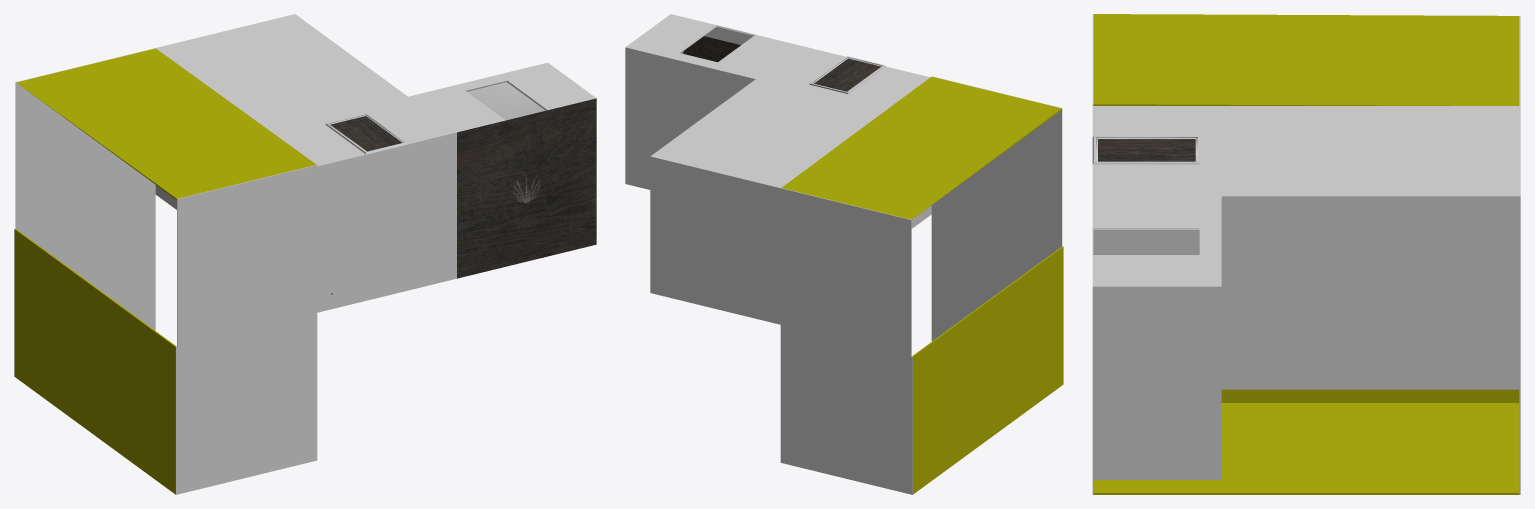
The model's file is Shop_part.fbx.
3 views of the same model, side by side, from view 1: azimuth 30°, elevation 25°; view 2: azimuth 150°, elevation 25°; view 3: azimuth 270°, elevation 25° (orthographic). The views are drawn at different scales.
Parts seen in each view (by area): view 1: Corner, Wall, Tile, SecretTile, DoorR, DoorL; view 2: Corner, Wall, Tile, SecretTile, DoorR, DoorL; view 3: Tile, Wall, SecretTile, Corner, DoorL, DoorR.
Boxes of the visible parts, x1=… form: Corner: x1=14, y1=194, x2=317, y2=494; Wall: x1=15, y1=48, x2=317, y2=346; Tile: x1=155, y1=14, x2=456, y2=312; SecretTile: x1=408, y1=62, x2=596, y2=278; DoorR: x1=325, y1=118, x2=386, y2=154; DoorL: x1=347, y1=113, x2=407, y2=149; Corner: x1=780, y1=214, x2=1063, y2=494; Wall: x1=780, y1=76, x2=1062, y2=356; Tile: x1=650, y1=46, x2=931, y2=324; SecretTile: x1=625, y1=14, x2=800, y2=189; DoorR: x1=828, y1=60, x2=885, y2=93; DoorL: x1=809, y1=56, x2=865, y2=89; Tile: x1=1092, y1=106, x2=1520, y2=389; Wall: x1=1092, y1=14, x2=1520, y2=105; SecretTile: x1=1092, y1=196, x2=1221, y2=479; Corner: x1=1092, y1=389, x2=1520, y2=494; DoorL: x1=1092, y1=149, x2=1199, y2=164; DoorR: x1=1092, y1=136, x2=1199, y2=150.
Bounding box in the file's own units: 3010 × 2020 × 2006.
